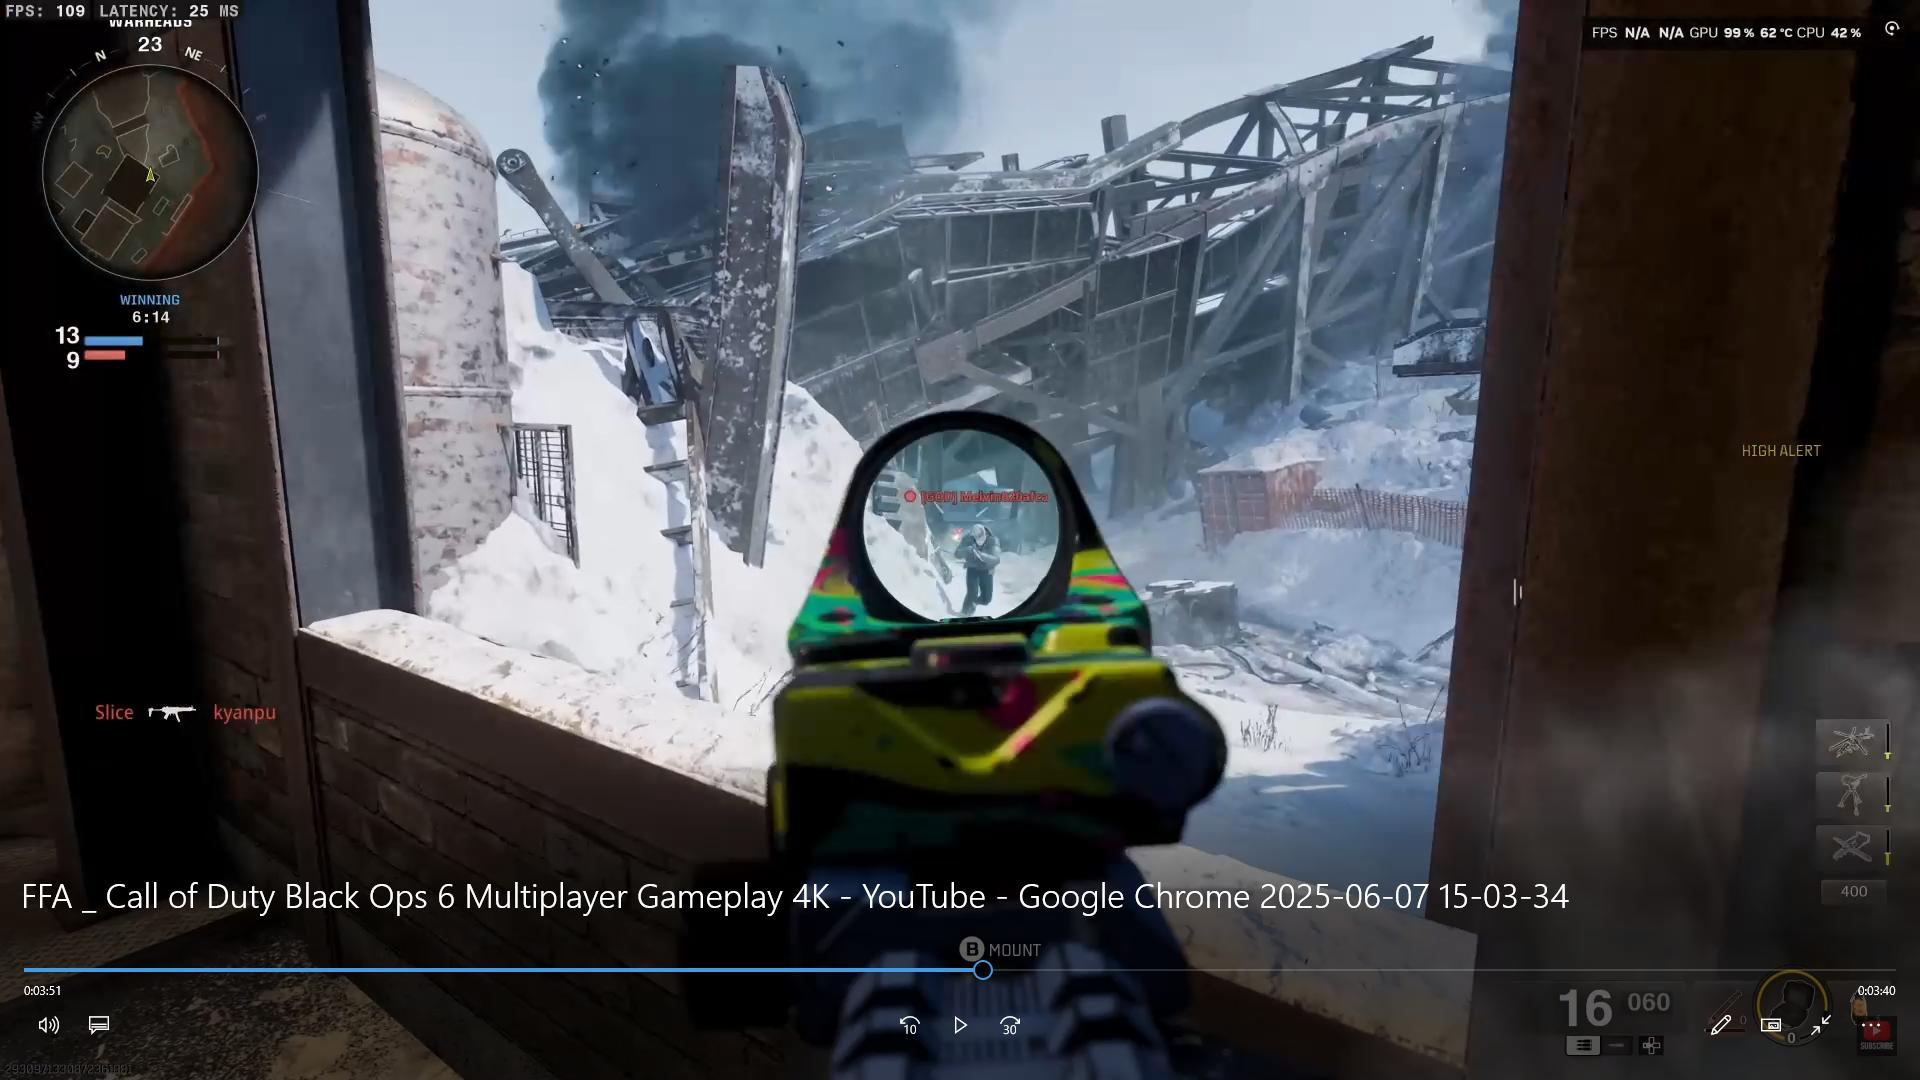Enemy: (947, 517, 1005, 615)
